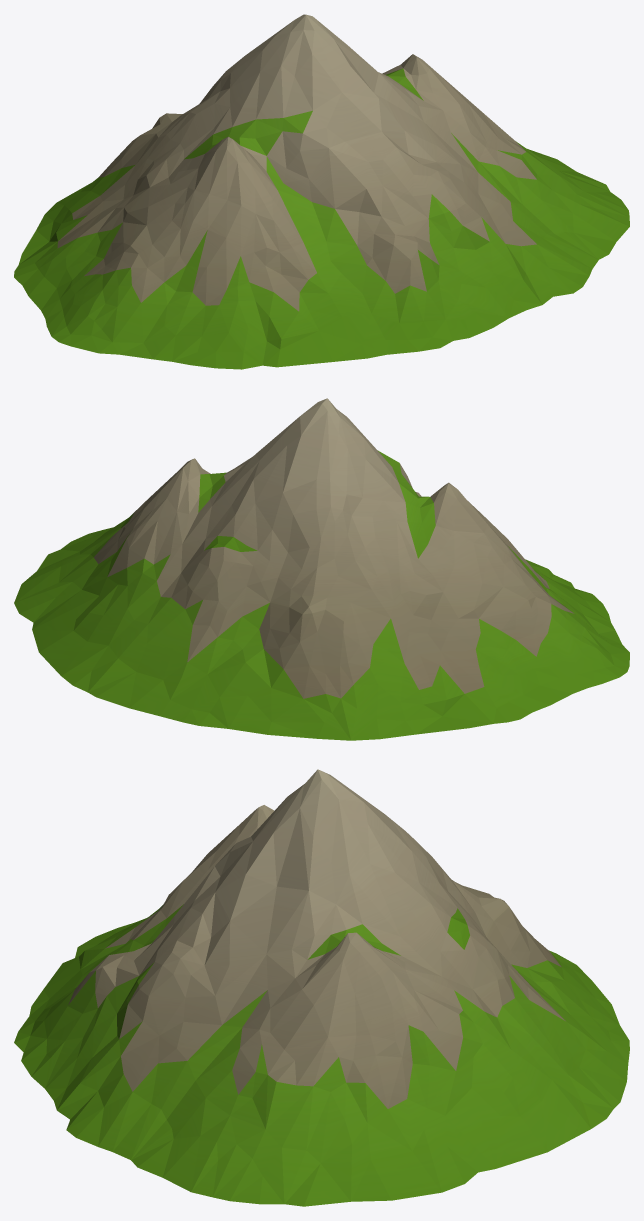
Rendered from Mountain_01.fbx.
3 views of the same model, one above another, from view 1: azimuth 30°, elevation 25°; view 2: azimuth 150°, elevation 25°; view 3: azimuth 270°, elevation 25° (orthographic). The views are drawn at different scales.
Parts seen in each view (by area): view 1: Mountain_01; view 2: Mountain_01; view 3: Mountain_01.
Boxes of the visible parts, box(x1,y1,x2,y2) form: Mountain_01: box(14, 14, 629, 369); Mountain_01: box(14, 398, 629, 740); Mountain_01: box(14, 769, 629, 1206).
Size of the model in its own units: 34669 by 13789 by 28138.
